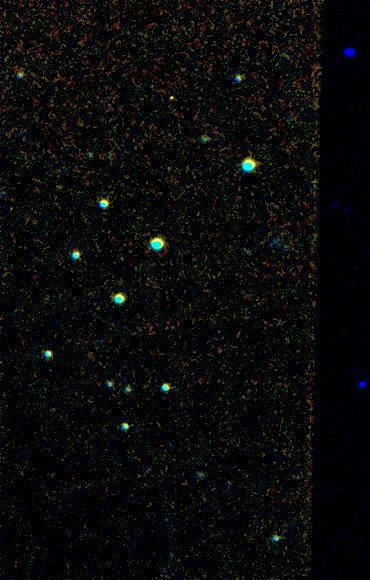star: (156, 83, 186, 113)
